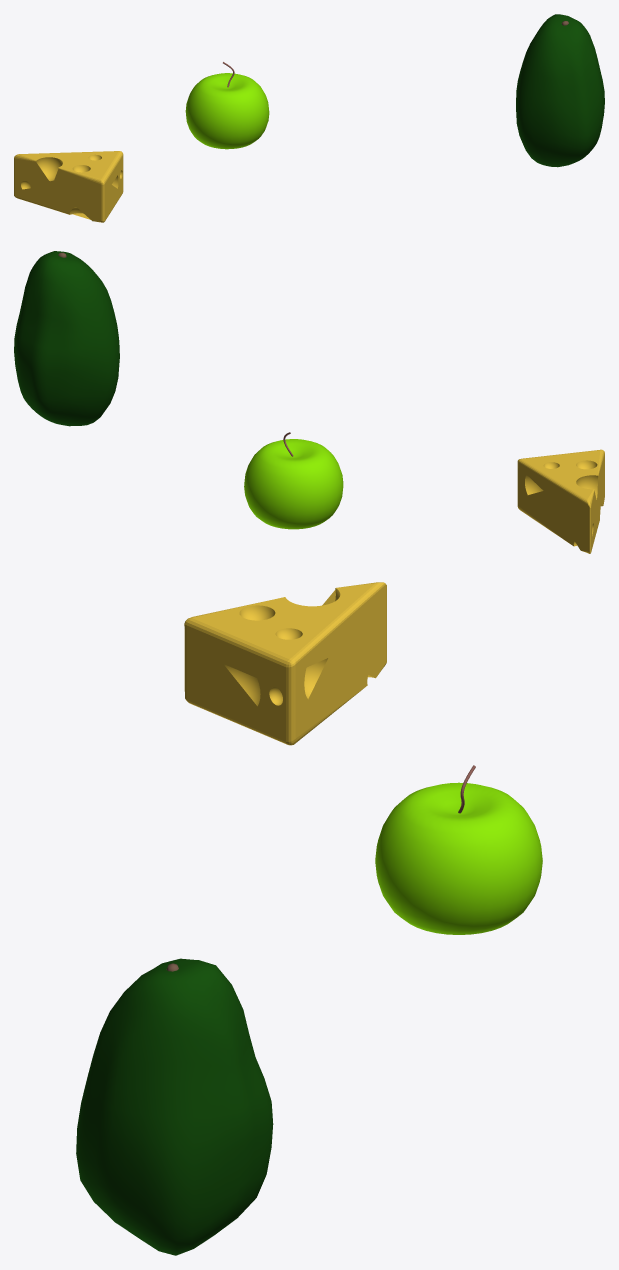
Rendered from TeoFoodFixed.fbx.
3 views of the same model, one above another, from view 1: azimuth 30°, elevation 25°; view 2: azimuth 150°, elevation 25°; view 3: azimuth 270°, elevation 25° (orthographic). The views are drawn at different scales.
Parts seen in each view (by area): view 1: Cube, Cheese, Apple; view 2: Cube, Apple, Cheese; view 3: Cube, Cheese, Apple.
Part boxes in pixels (x1,y1,x2,y2): Cube: [516, 14, 604, 167]; Cheese: [14, 151, 123, 222]; Apple: [185, 62, 269, 149]; Cube: [14, 251, 119, 426]; Apple: [244, 432, 343, 529]; Cheese: [517, 449, 604, 553]; Cube: [76, 958, 273, 1255]; Cheese: [184, 582, 386, 745]; Apple: [375, 765, 542, 934].
Bounding box in the file's own units: 134 × 34.45 × 50.8.
